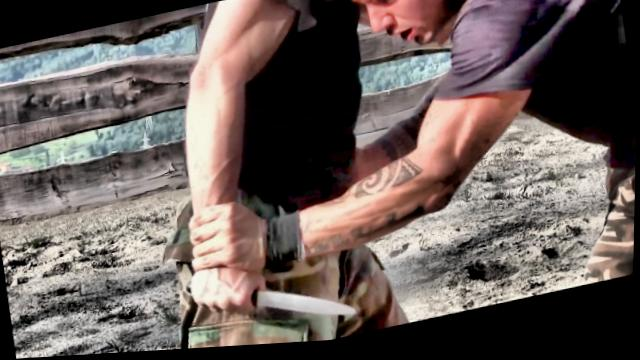knife: (183, 245, 362, 351)
